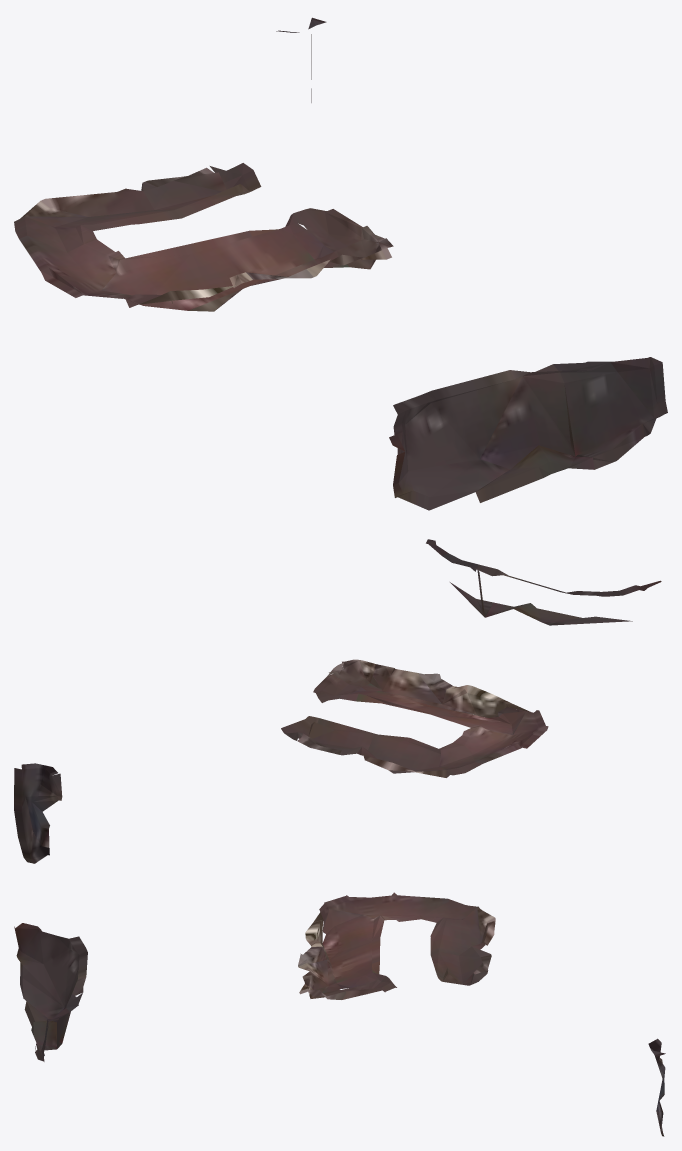
3 views of the same model, one above another, from view 1: azimuth 30°, elevation 25°; view 2: azimuth 150°, elevation 25°; view 3: azimuth 270°, elevation 25° (orthographic). The views are drawn at different scales.
Visible parts, largest first — view 1: Mesh_0; view 2: Mesh_0; view 3: Mesh_0.
Part boxes in pixels (x1,y1,x2,y2): Mesh_0: (14,17,667,510); Mesh_0: (14,539,661,863); Mesh_0: (14,892,665,1136).
Bounding box in the file's own units: 24.1 × 6.12 × 41.08.
1 material, 1 textured.
